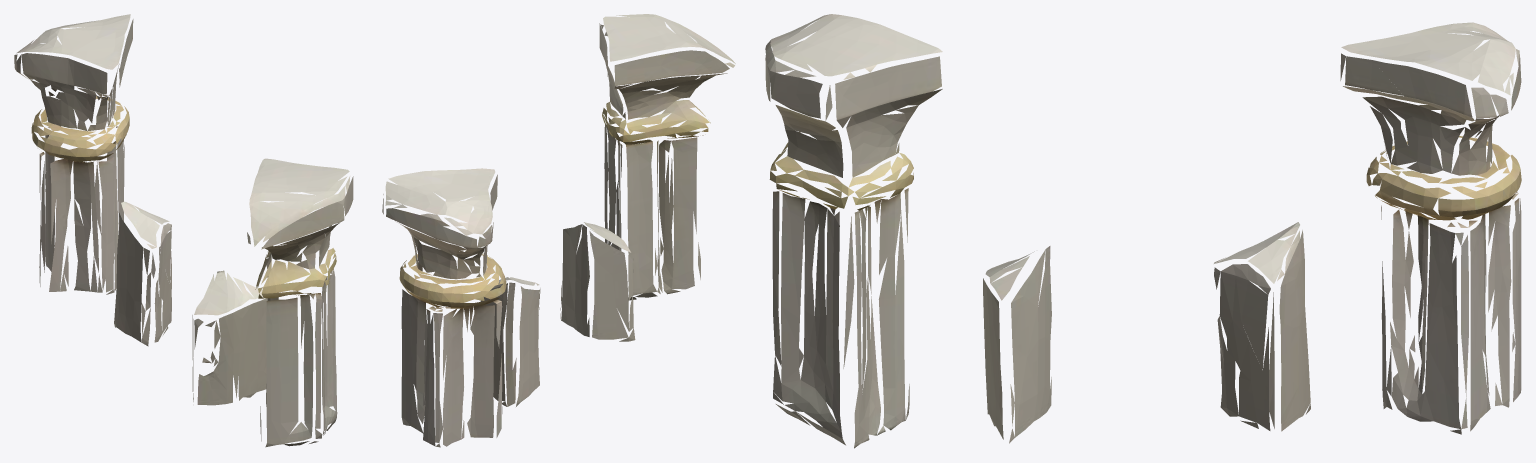
File: pillars_clouds.glb
3 renders of one model, left to right at view 1: azimuth 30°, elevation 25°; view 2: azimuth 150°, elevation 25°; view 3: azimuth 270°, elevation 25°, orthographic. The views are drawn at different scales.
Parts seen in each view (by area): view 1: world; view 2: world; view 3: world.
Boxes of the visible parts, box(x1,y1,x2,y2) form: world: box(14, 14, 353, 447); world: box(382, 14, 735, 447); world: box(765, 14, 1521, 448).
Size of the model in its own units: 0.2684 by 0.5578 by 0.9997.
1 material, 1 textured.
